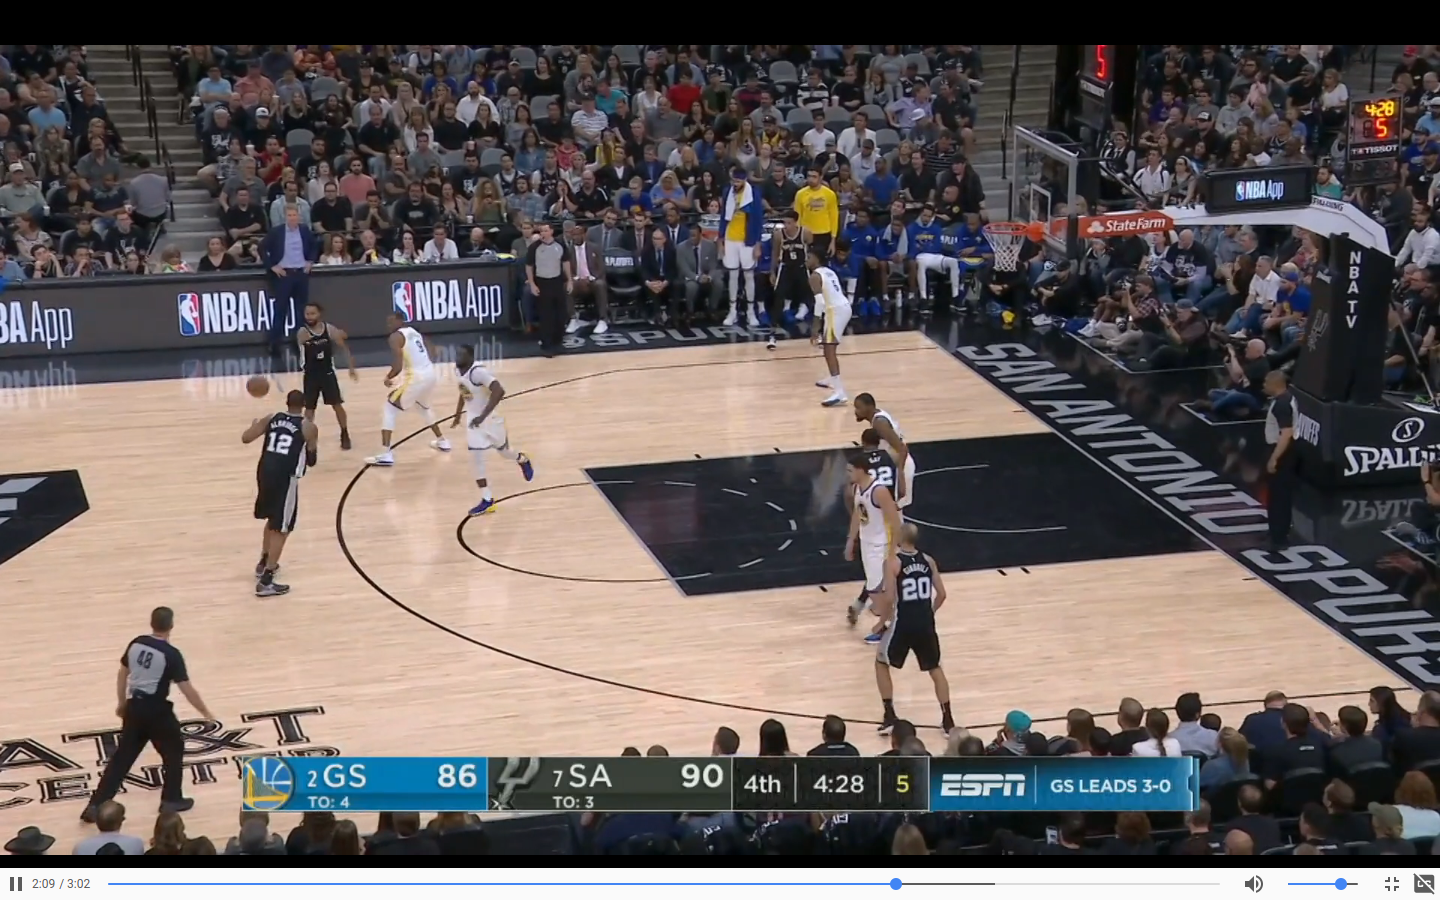basketball: (239, 366, 275, 403)
basketball player: (867, 520, 958, 734), (239, 391, 321, 616), (445, 337, 538, 517), (372, 303, 452, 459), (287, 294, 358, 459), (802, 243, 850, 419), (844, 466, 893, 625), (861, 377, 921, 502)
referee: (81, 600, 216, 822), (1247, 360, 1310, 569), (524, 220, 578, 354)
